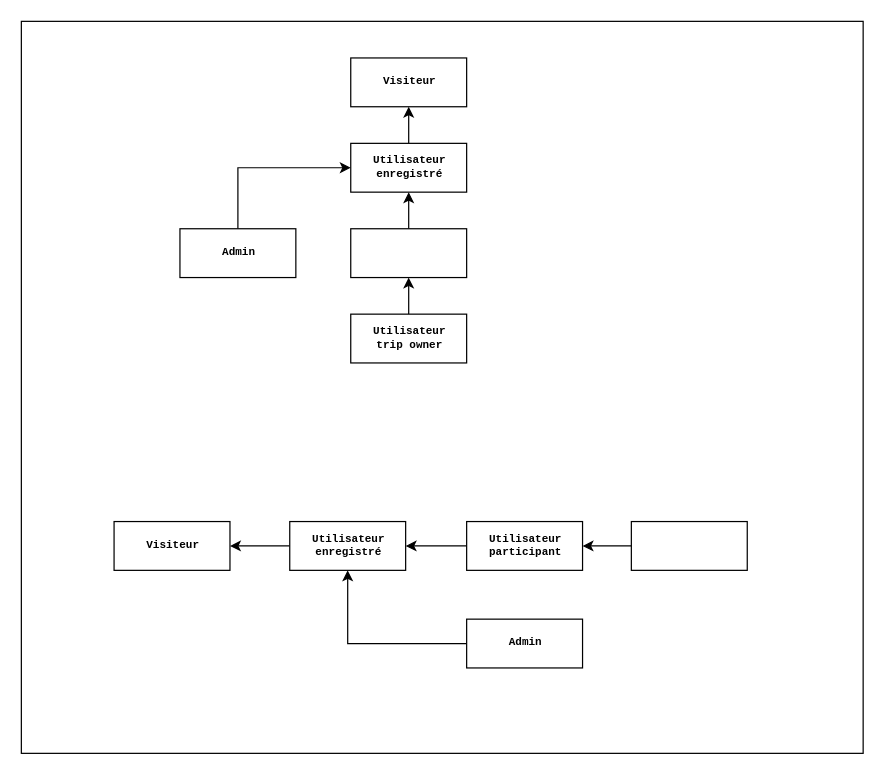
The diagram is 885 pixels wide and 775 high, and some of its shapes have lost their labels. The box of each missing label's shape, as (x1, y1, x2, y2) in pixels:
Utilisateur administrateur: (630, 520, 747, 570)
Utilisateur trip participant: (350, 228, 467, 278)
